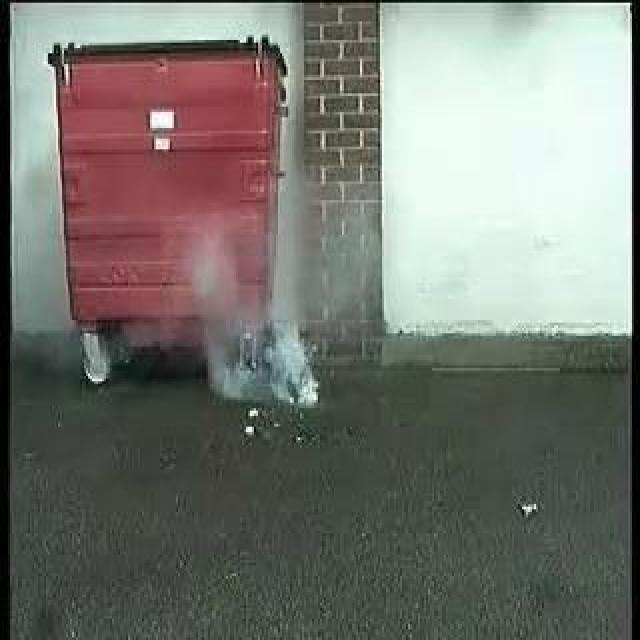Smoke: (207, 226, 347, 402)
